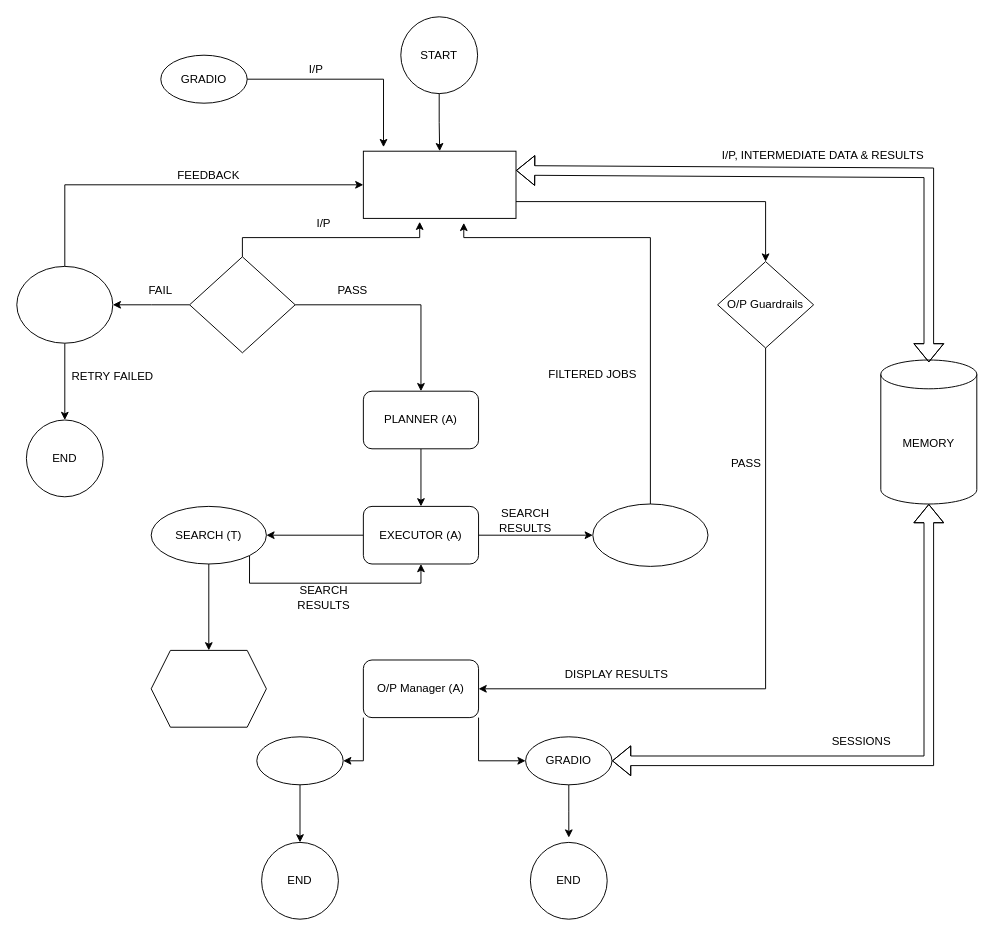
The diagram is 994 pixels wide and 936 high, and some of its shapes have lost their labels. The shapes that lost their labels are listed below. From the top down, each one's box as (x1, y1, x2, y2) in pixels, then its label:
(362, 150, 516, 218): ROUTER (PA)
(16, 265, 113, 343): RETRY WITH FEEDBACK
(189, 256, 295, 353): I/P Guardrails
(592, 503, 708, 566): FILTER & LIST (T)
(150, 649, 266, 727): BROWSER (VIA PLAYWRIGHT)
(256, 736, 343, 785): CONSOLE
